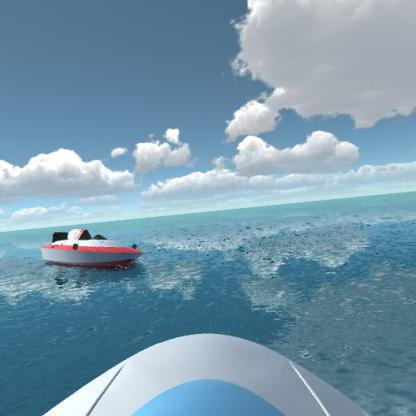usv3: (36, 225, 149, 278)
